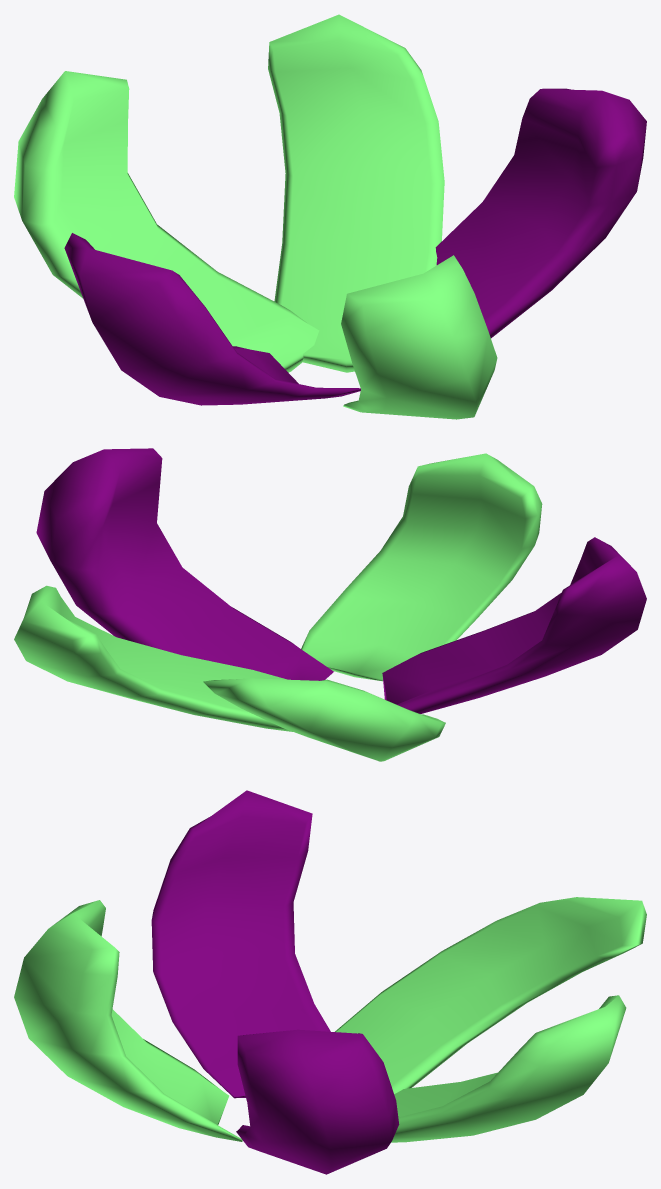
Rendered from Cactus10.fbx.
The picture shows the model from 3 angles, top to bottom: view 1: azimuth 30°, elevation 25°; view 2: azimuth 150°, elevation 25°; view 3: azimuth 270°, elevation 25°; orthographic projection. The views are drawn at different scales.
Visible parts, largest first — view 1: Low_Cactus10; view 2: Low_Cactus10; view 3: Low_Cactus10.
Part boxes in pixels (left/top/right/bottom): Low_Cactus10: left=14, top=14, right=646, bottom=419; Low_Cactus10: left=14, top=448, right=646, bottom=761; Low_Cactus10: left=14, top=790, right=646, bottom=1174.
Bounding box in the file's own units: 494 × 178 × 478.
